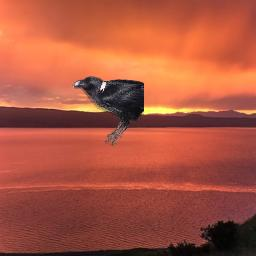Crow: (72, 76, 144, 147)
